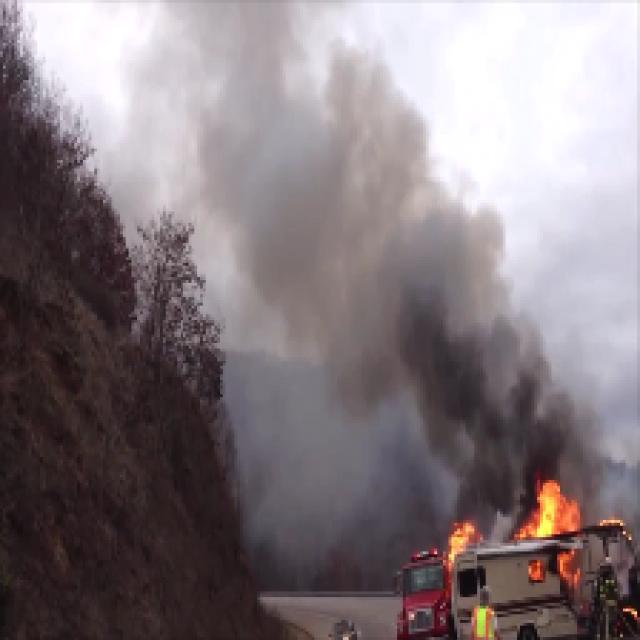fire: (530, 486, 574, 536)
smoke: (250, 109, 434, 294), (428, 306, 548, 470), (468, 474, 503, 514)
